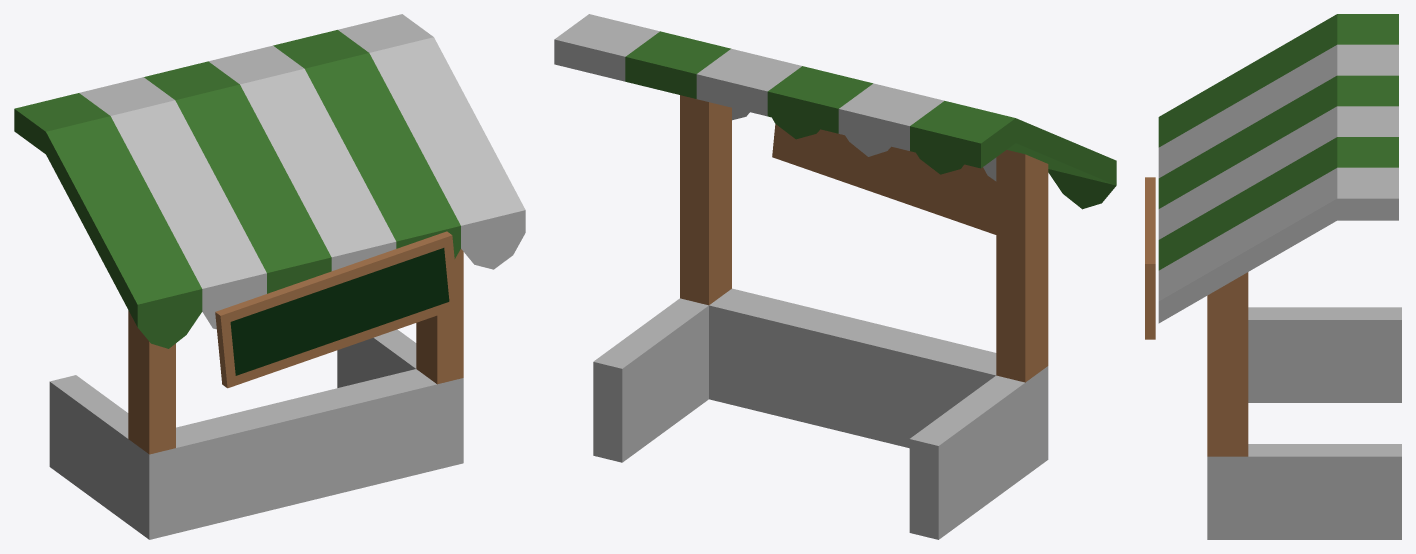
The model's file is YakkisobaPannel.fbx.
The picture shows the model from 3 angles, left to right: view 1: azimuth 30°, elevation 25°; view 2: azimuth 150°, elevation 25°; view 3: azimuth 270°, elevation 25°; orthographic projection. The views are drawn at different scales.
Parts seen in each view (by area): view 1: 큐브; view 2: 큐브; view 3: 큐브.
Boxes of the visible parts, x1,y1,x2,y2 form: 큐브: (14, 14, 525, 539); 큐브: (554, 14, 1116, 539); 큐브: (1145, 14, 1401, 539).
Size of the model in its own units: 247 by 224 by 145.
